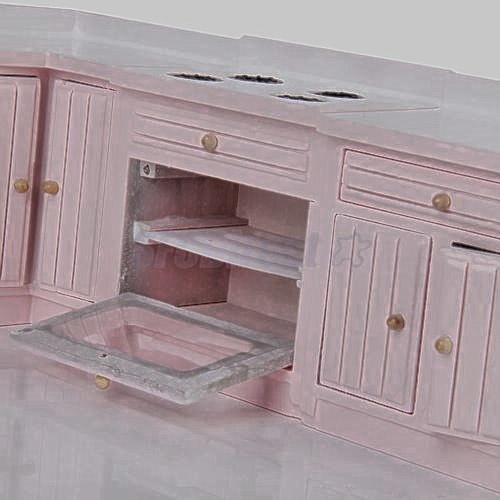cabinet: (49, 76, 485, 444)
